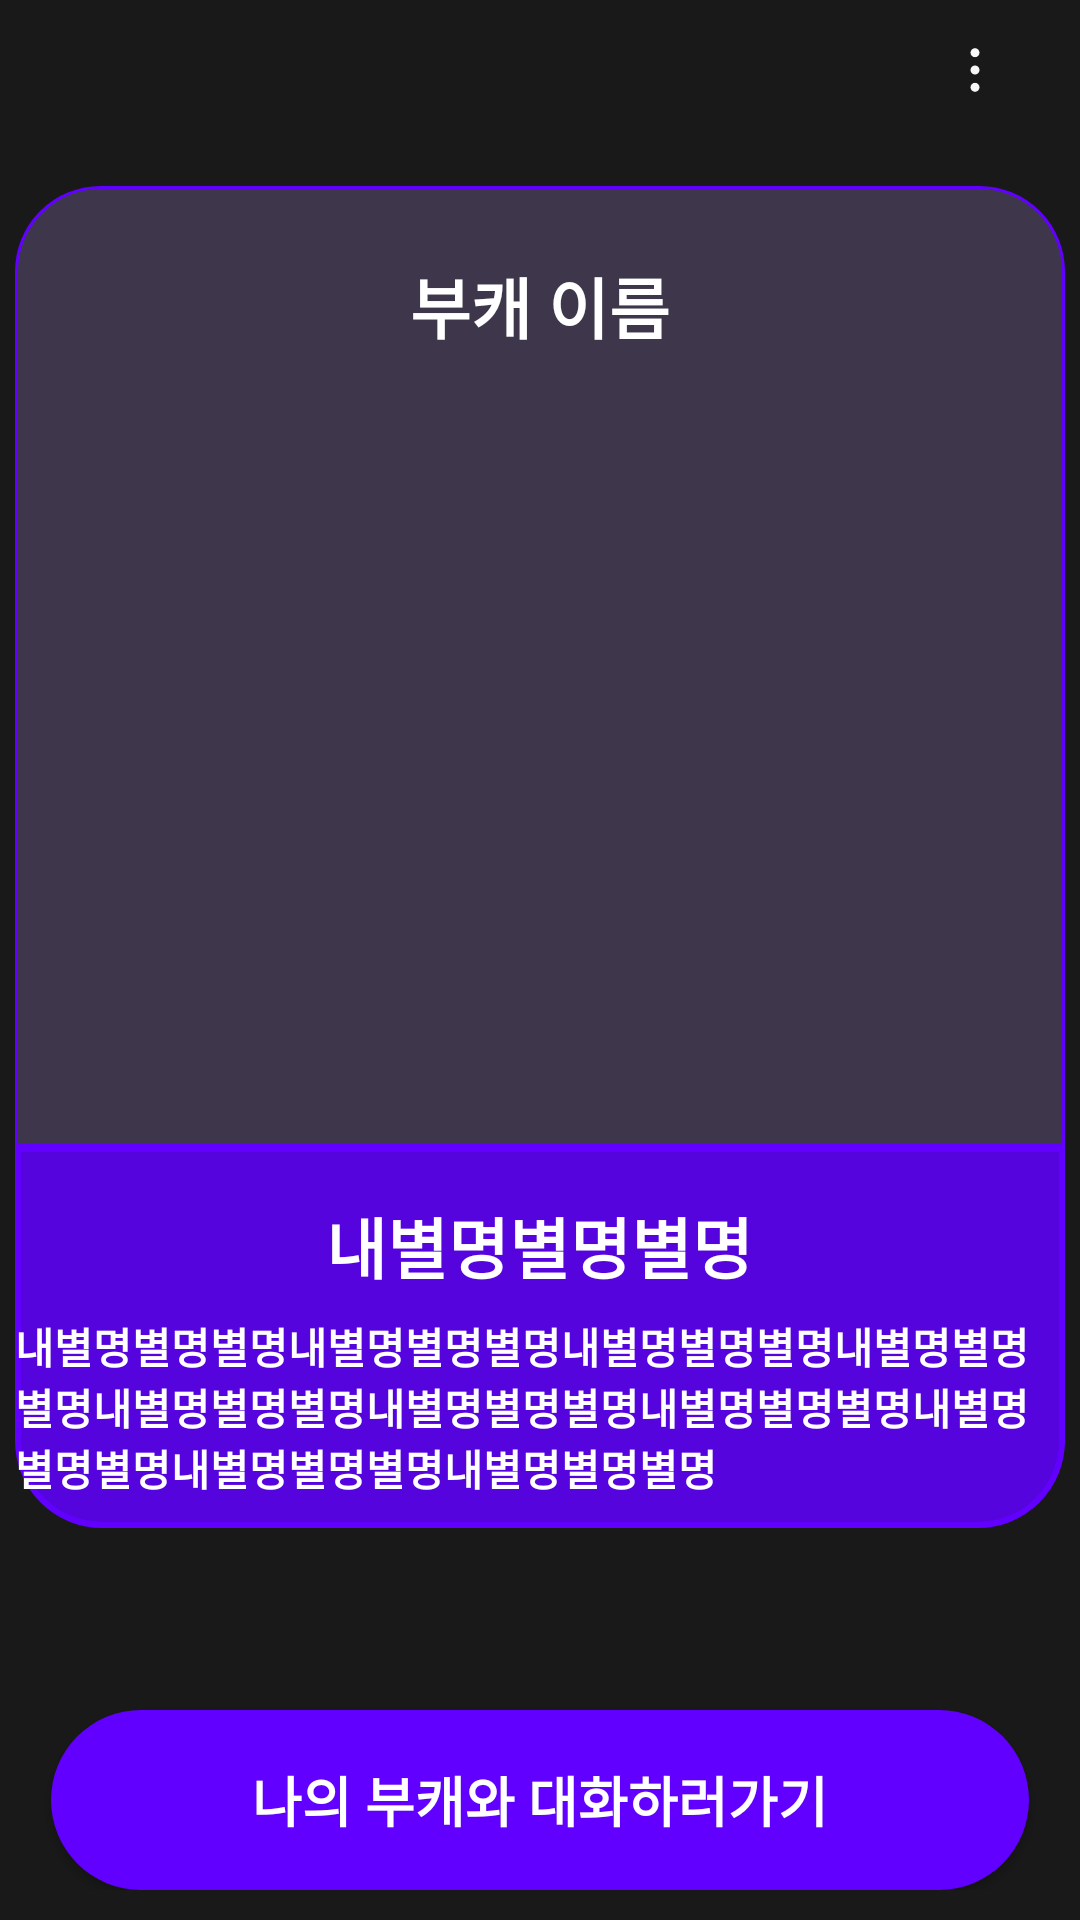

Locate icon controls on the screen. Image size 1080*1920, boxes as rect(x1, y1, x2, y2).
more vert: rect(970, 48, 980, 92)
